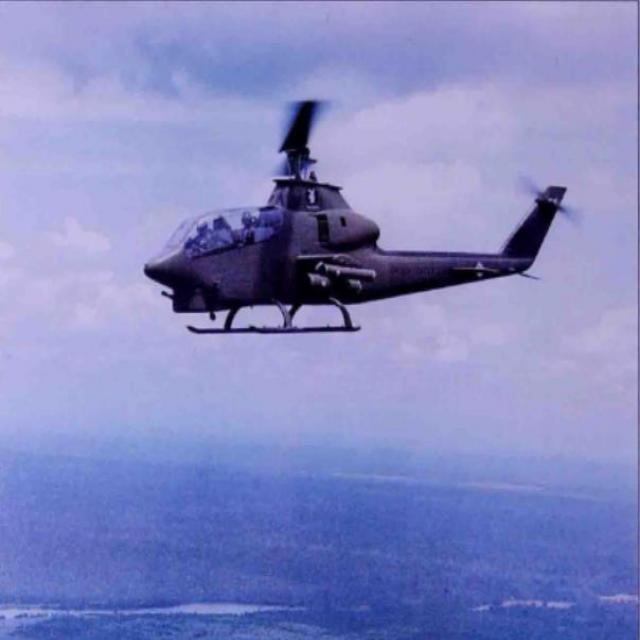MIL_HELO: (111, 91, 598, 358)
